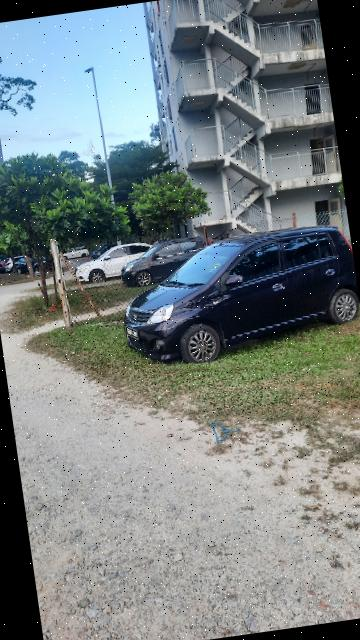License_Plate: (125, 324, 142, 343)
car: (102, 218, 360, 376)
